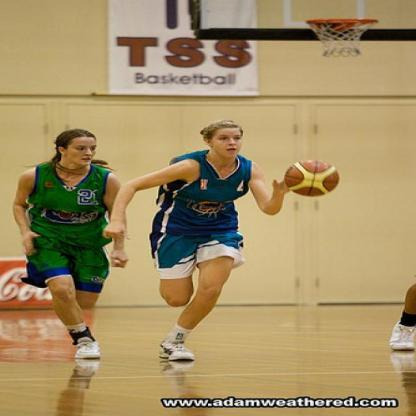basketball: (284, 160, 340, 197)
rim: (306, 17, 378, 28)
